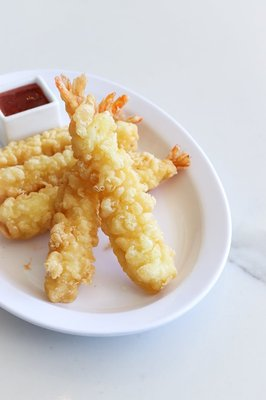sushi: (0, 77, 233, 337)
